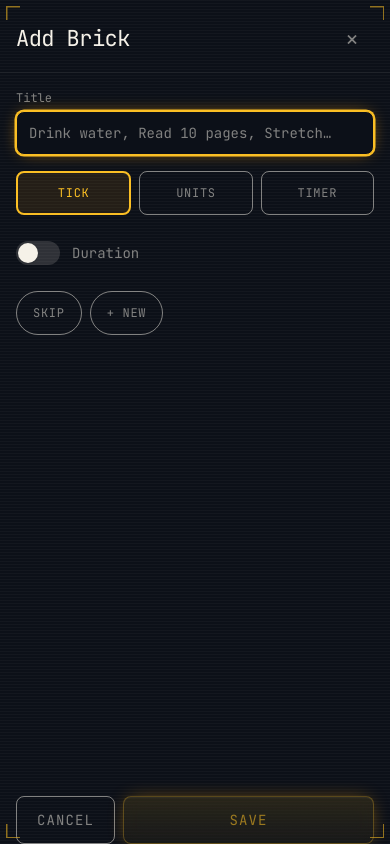
Test: C-m3-014: AddBrickSheet type selector › clicking Units changes aria-checked; reveals target + unit inputs (C-m4f-014)
Click the radio button labelled "Units" at (196, 193), box left=139, top=171, right=253, bottom=215
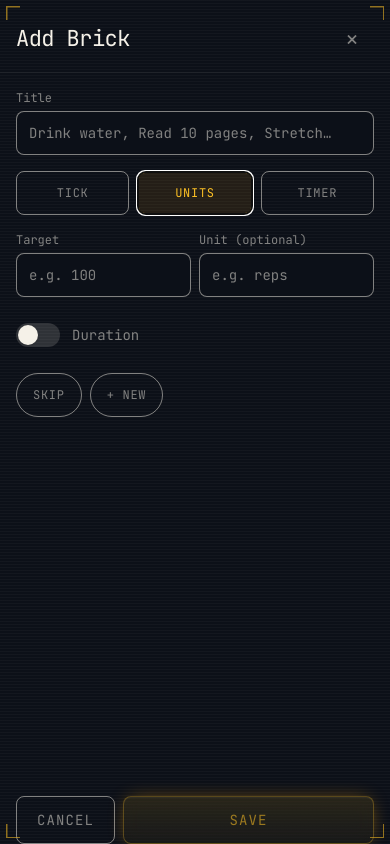
Now the number field labelled "Target" is shown, box left=16, top=253, right=191, bottom=297
Now the field labelled "Unit (optional)" is shown, box left=199, top=253, right=374, bottom=297
